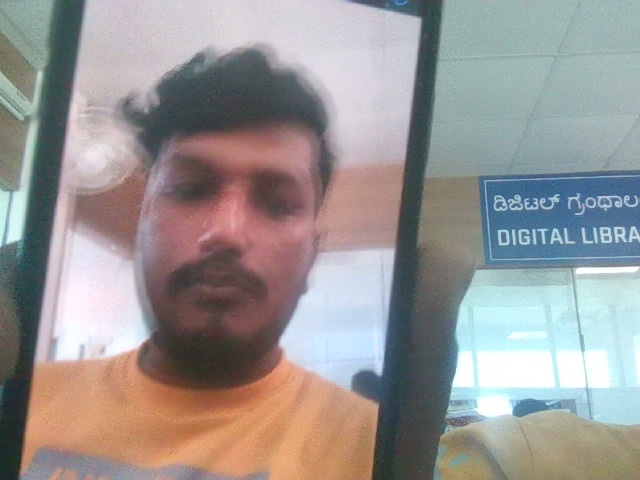fake: (95, 22, 348, 380)
